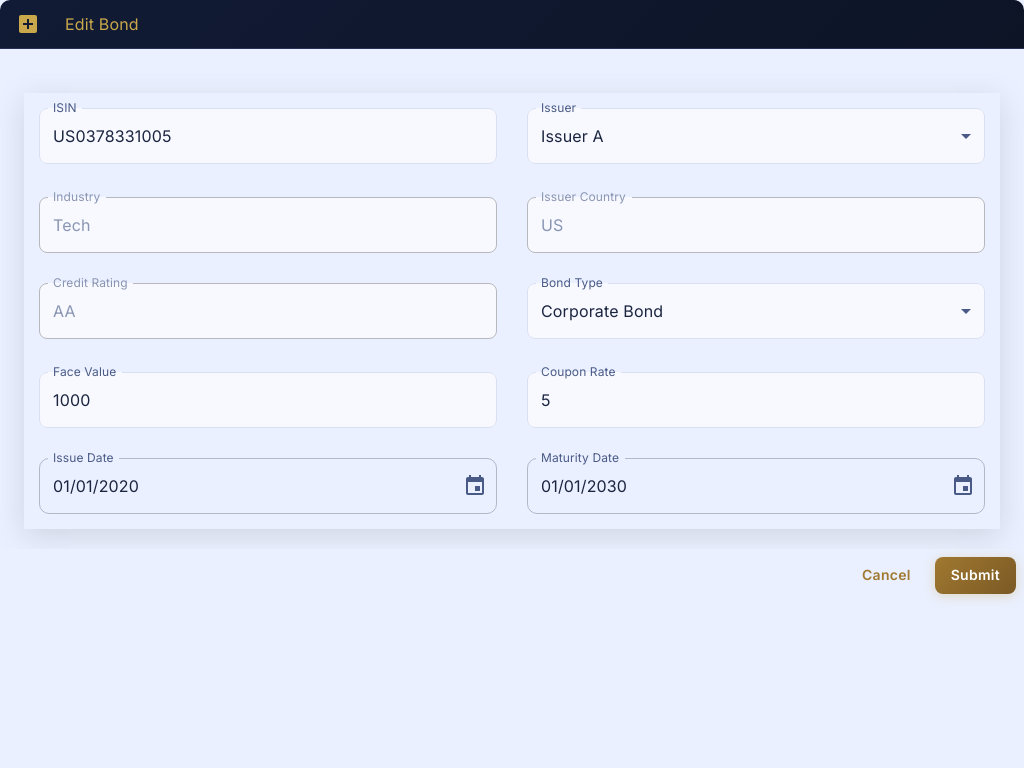
Test case: EditBondModal › shows formatted error alert when save fails
Expected: the field named "Coupon Rate" is shown, [39, 108, 497, 164]
Click the button "Submit" at (975,575), box [935, 557, 1016, 594]
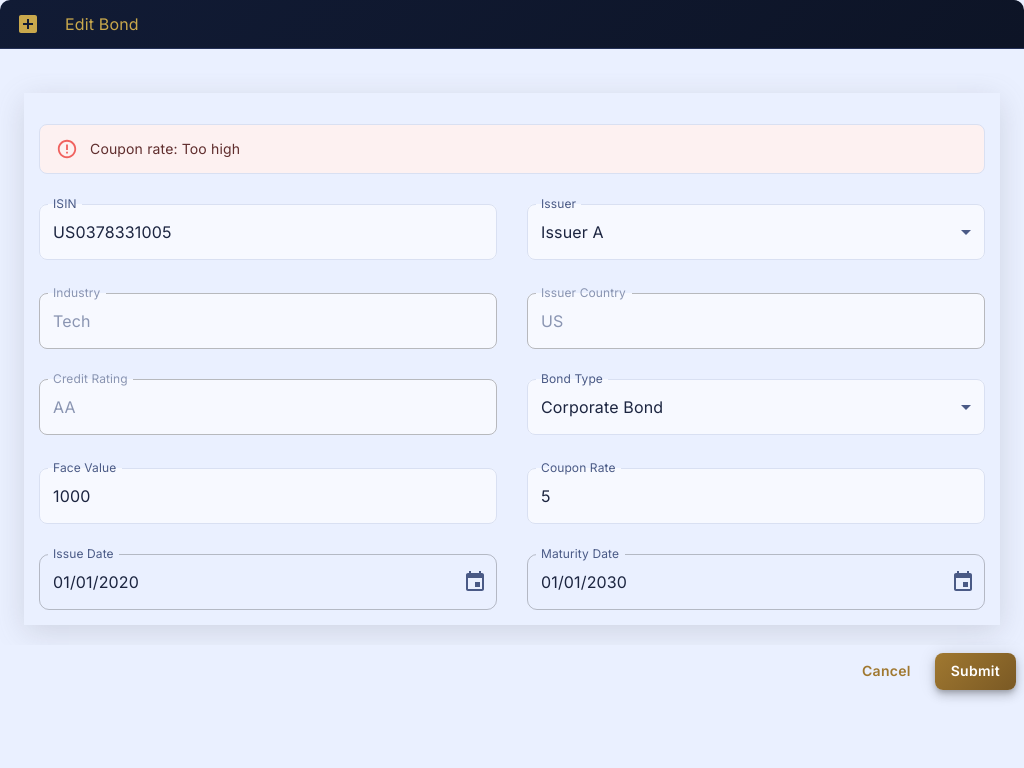
Expected: the text "Coupon rate: Too high" is shown, [90, 140, 240, 157]
